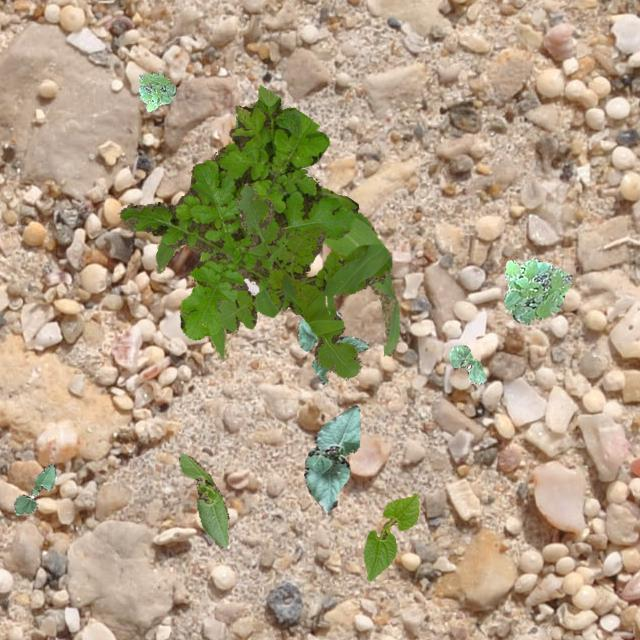crop: (154, 102, 398, 360), (302, 403, 360, 512), (296, 310, 368, 384), (362, 492, 418, 580), (178, 452, 228, 548), (12, 464, 56, 514), (448, 344, 486, 382)
weed: (119, 84, 358, 338), (217, 182, 390, 378), (504, 256, 570, 324), (138, 72, 174, 110)
